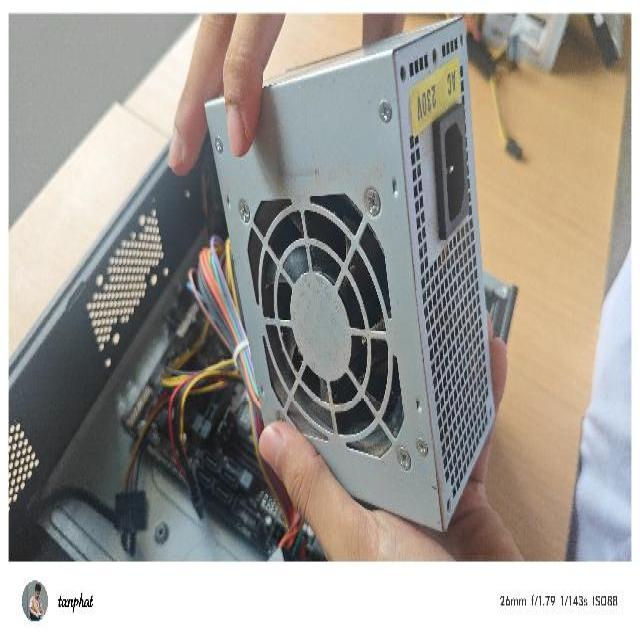PSU: (202, 20, 500, 532)
